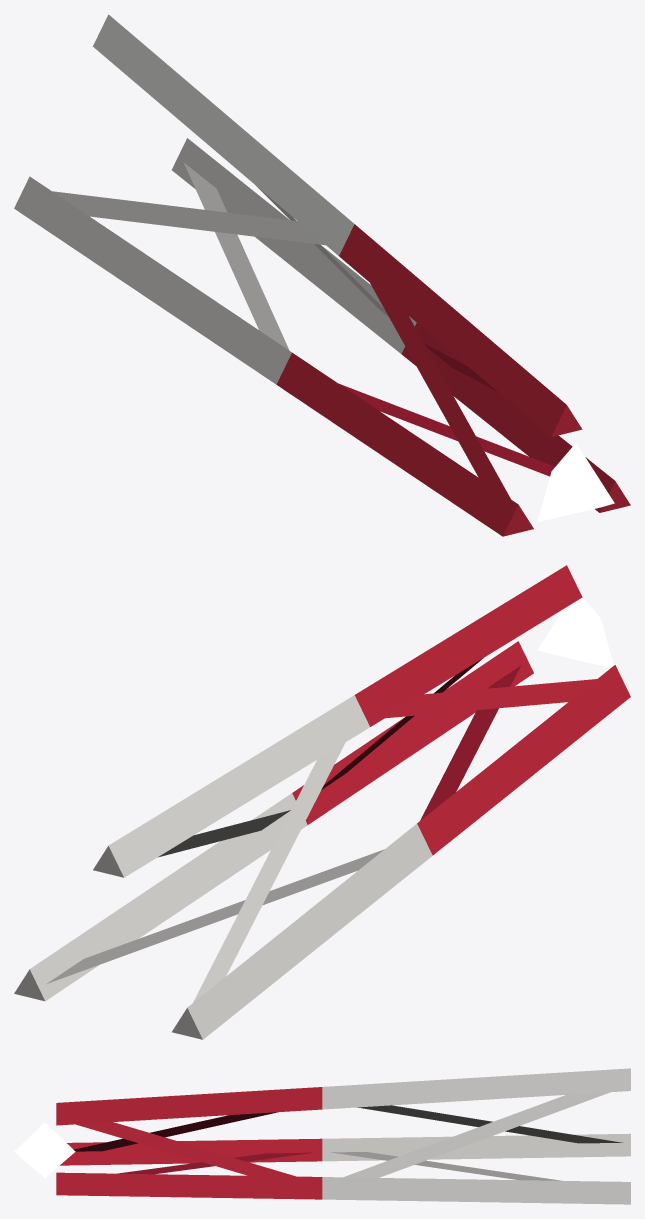
The model's file is prop_mast.glb.
3 views of the same model, one above another, from view 1: azimuth 30°, elevation 25°; view 2: azimuth 150°, elevation 25°; view 3: azimuth 270°, elevation 25° (orthographic). The views are drawn at different scales.
Parts seen in each view (by area): view 1: prop_mast; view 2: prop_mast; view 3: prop_mast.
Boxes of the visible parts, bbox=[...] form: prop_mast: bbox=[14, 14, 630, 536]; prop_mast: bbox=[14, 565, 630, 1039]; prop_mast: bbox=[14, 1068, 630, 1204].
Size of the model in its own units: 1.77 by 1.54 by 8.
